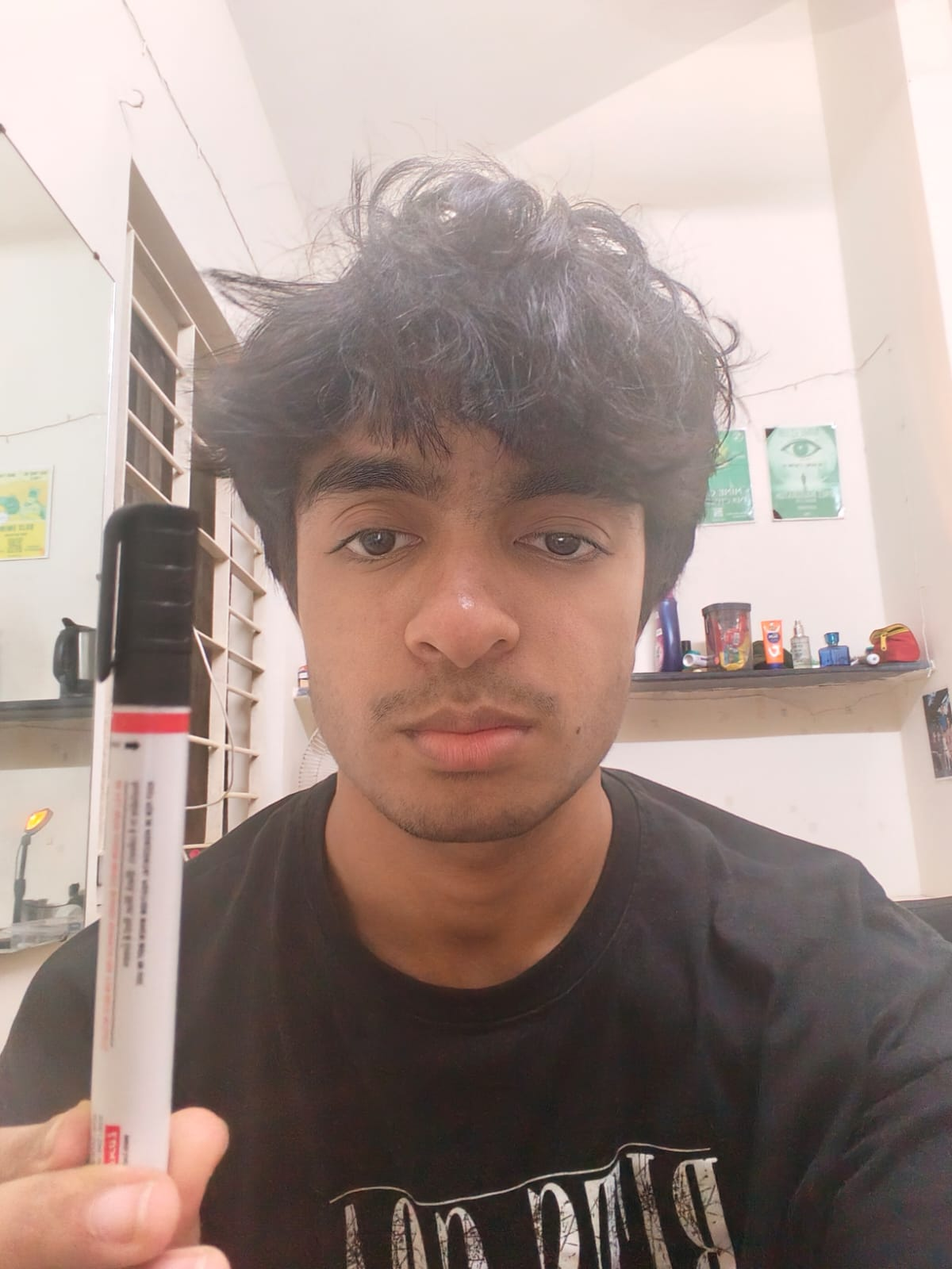case: (58, 488, 220, 1190)
